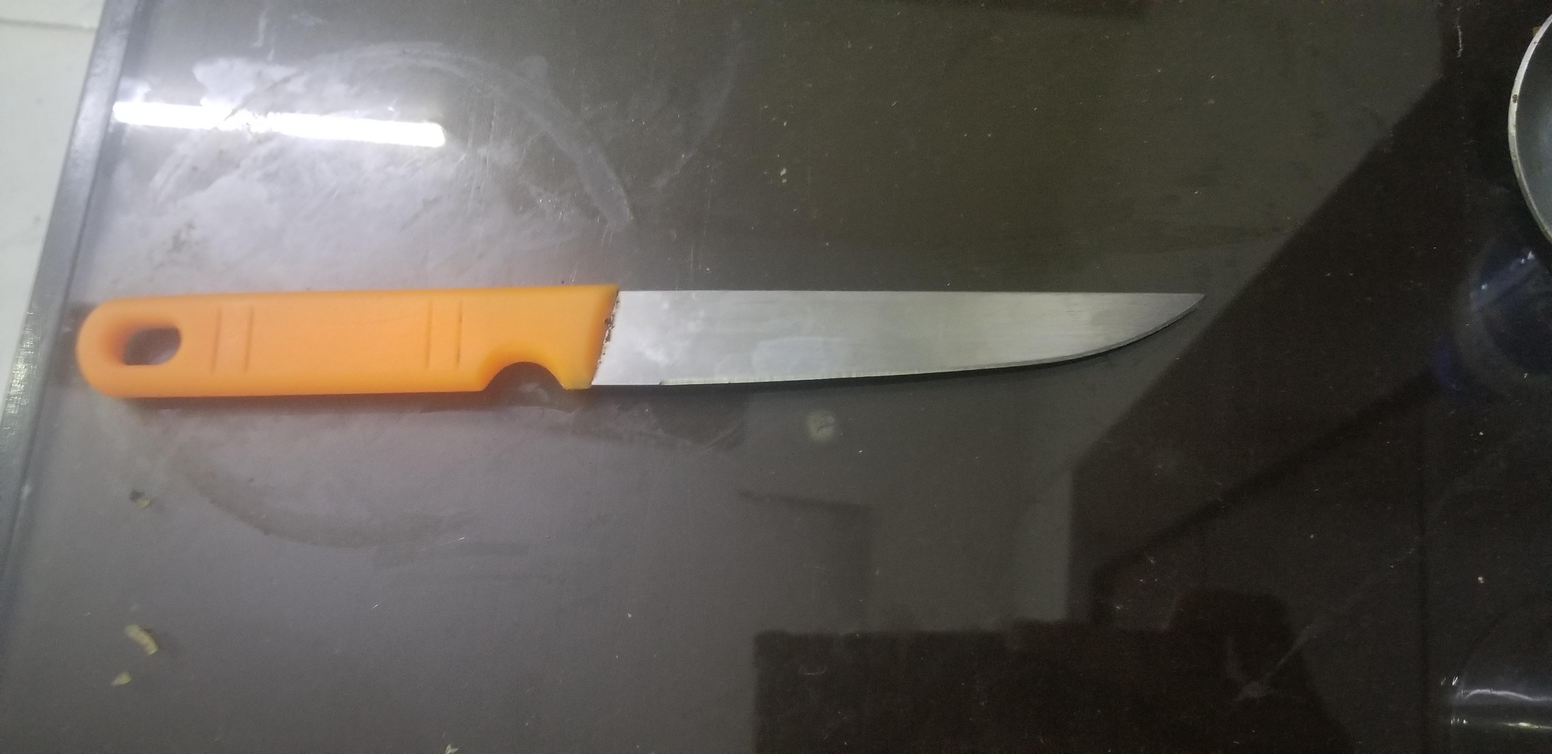knives: (628, 43, 1118, 600)
